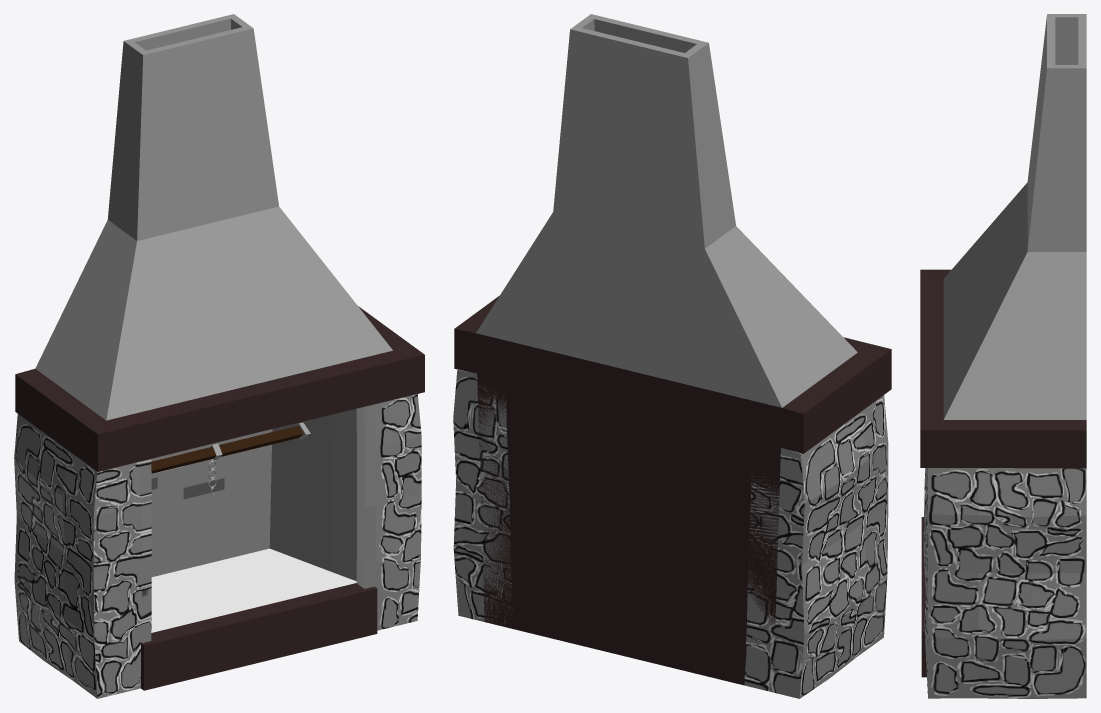
The model's file is Chimenea.fbx.
The picture shows the model from 3 angles, left to right: view 1: azimuth 30°, elevation 25°; view 2: azimuth 150°, elevation 25°; view 3: azimuth 270°, elevation 25°; orthographic projection. The views are drawn at different scales.
Parts seen in each view (by area): view 1: Cube.009, Cube.007; view 2: Cube.009; view 3: Cube.009.
Part boxes in pixels (x1,y1,x2,y2): Cube.009: (14,14,424,698); Cube.007: (151,422,310,473); Cube.009: (453,14,891,698); Cube.009: (920,14,1086,698).
Bounding box in the file's own units: 87.21 × 141 × 36.69.
5 materials, 1 textured.
